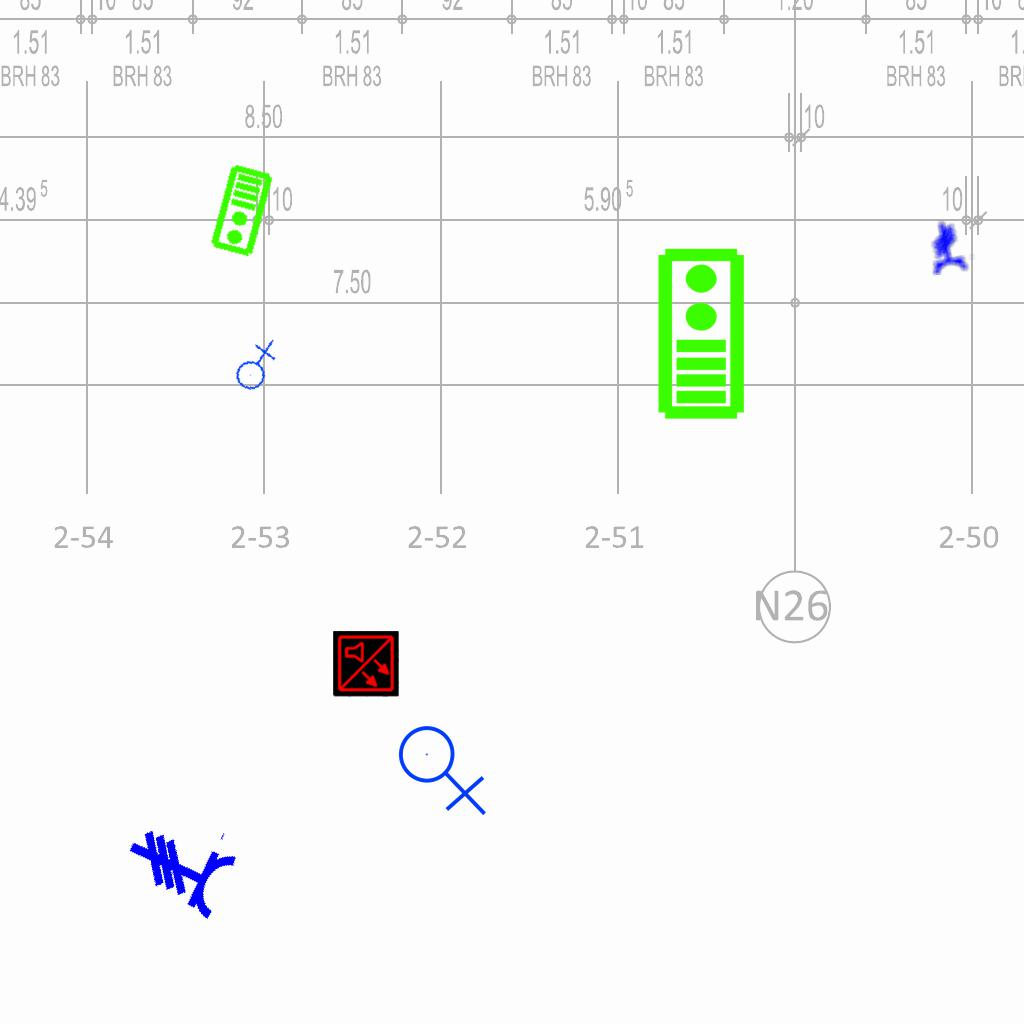CEE_Drehstrom_Steckdose_16_32_A: (114, 797, 248, 923), (923, 217, 978, 277)
Elektroanschluss_allgemein_230V_Geraeteanschlussdose_230V: (397, 717, 491, 816), (225, 337, 284, 394)
Gegensprechanlage_mit_Video: (652, 245, 747, 421), (208, 162, 277, 260)
OKW_Multisensormelder_(Kombination_optischer_Rauch-Kahlenmonoxid_Waerme-Melder): (333, 631, 399, 697)
